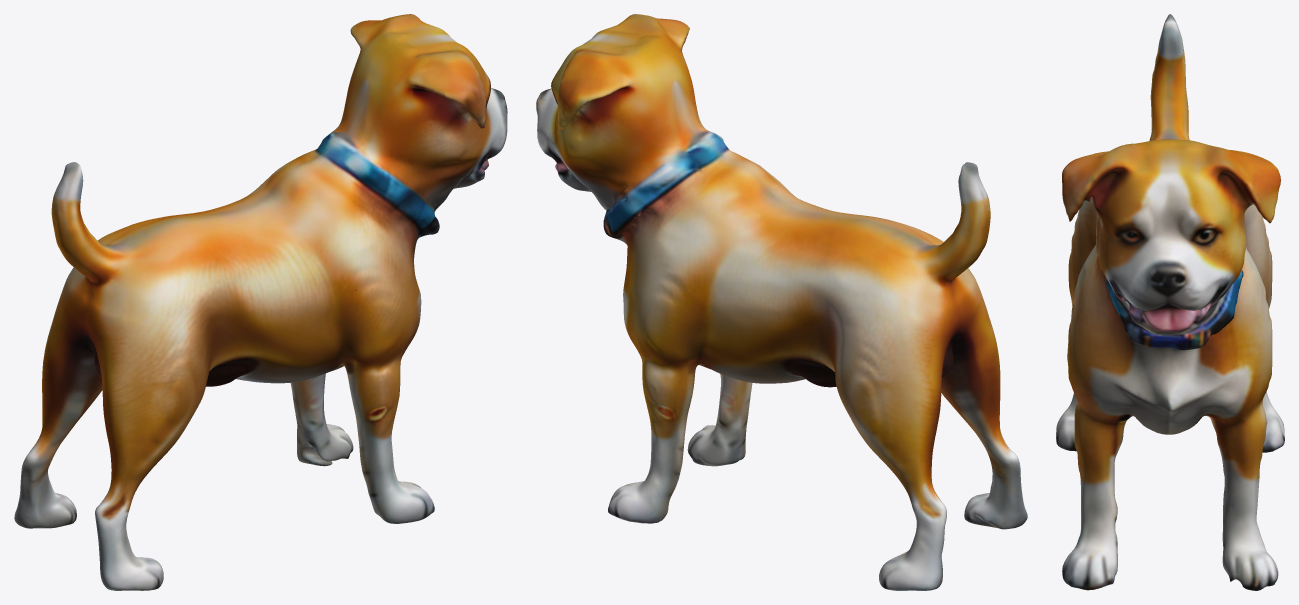
File: dog.glb
The picture shows the model from 3 angles, left to right: view 1: azimuth 30°, elevation 25°; view 2: azimuth 150°, elevation 25°; view 3: azimuth 270°, elevation 25°; orthographic projection. The views are drawn at different scales.
Visible parts, largest first — view 1: tripo_node_142babed-03e8-49f6-969e-5eb27ff3622b_0; view 2: tripo_node_142babed-03e8-49f6-969e-5eb27ff3622b_0; view 3: tripo_node_142babed-03e8-49f6-969e-5eb27ff3622b_0.
Boxes of the visible parts, x1,y1,x2,y2 form: tripo_node_142babed-03e8-49f6-969e-5eb27ff3622b_0: (14, 14, 507, 590); tripo_node_142babed-03e8-49f6-969e-5eb27ff3622b_0: (536, 14, 1027, 590); tripo_node_142babed-03e8-49f6-969e-5eb27ff3622b_0: (1056, 14, 1284, 590).
Size of the model in its own units: 4.31 by 4.04 by 1.82.
Materials: 1 (1 with a texture image).
